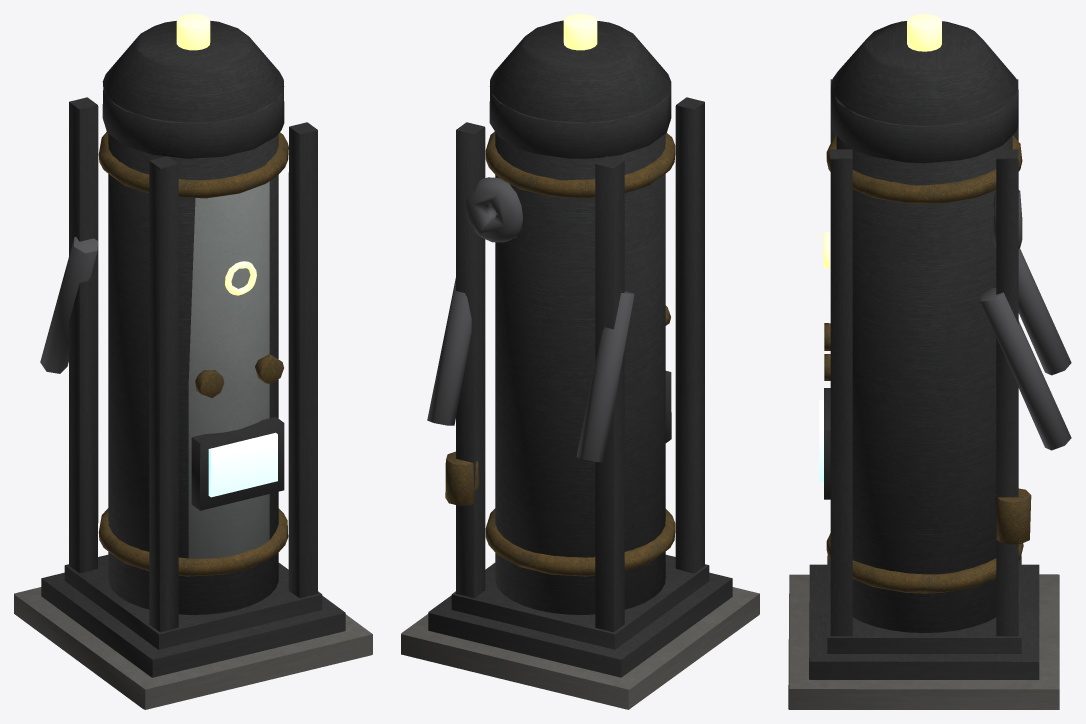
The model's file is hp_room_l08_p02.glb.
3 views of the same model, side by side, from view 1: azimuth 30°, elevation 25°; view 2: azimuth 150°, elevation 25°; view 3: azimuth 270°, elevation 25° (orthographic). The views are drawn at different scales.
Visible parts, largest first — view 1: room_l08_p02; view 2: room_l08_p02; view 3: room_l08_p02.
Part boxes in pixels (left/top/right/bottom): room_l08_p02: left=14, top=14, right=372, bottom=709; room_l08_p02: left=401, top=14, right=759, bottom=709; room_l08_p02: left=788, top=14, right=1071, bottom=709.
Size of the model in its own units: 0.92 by 2.35 by 0.9568.
9 materials, 6 textured.
